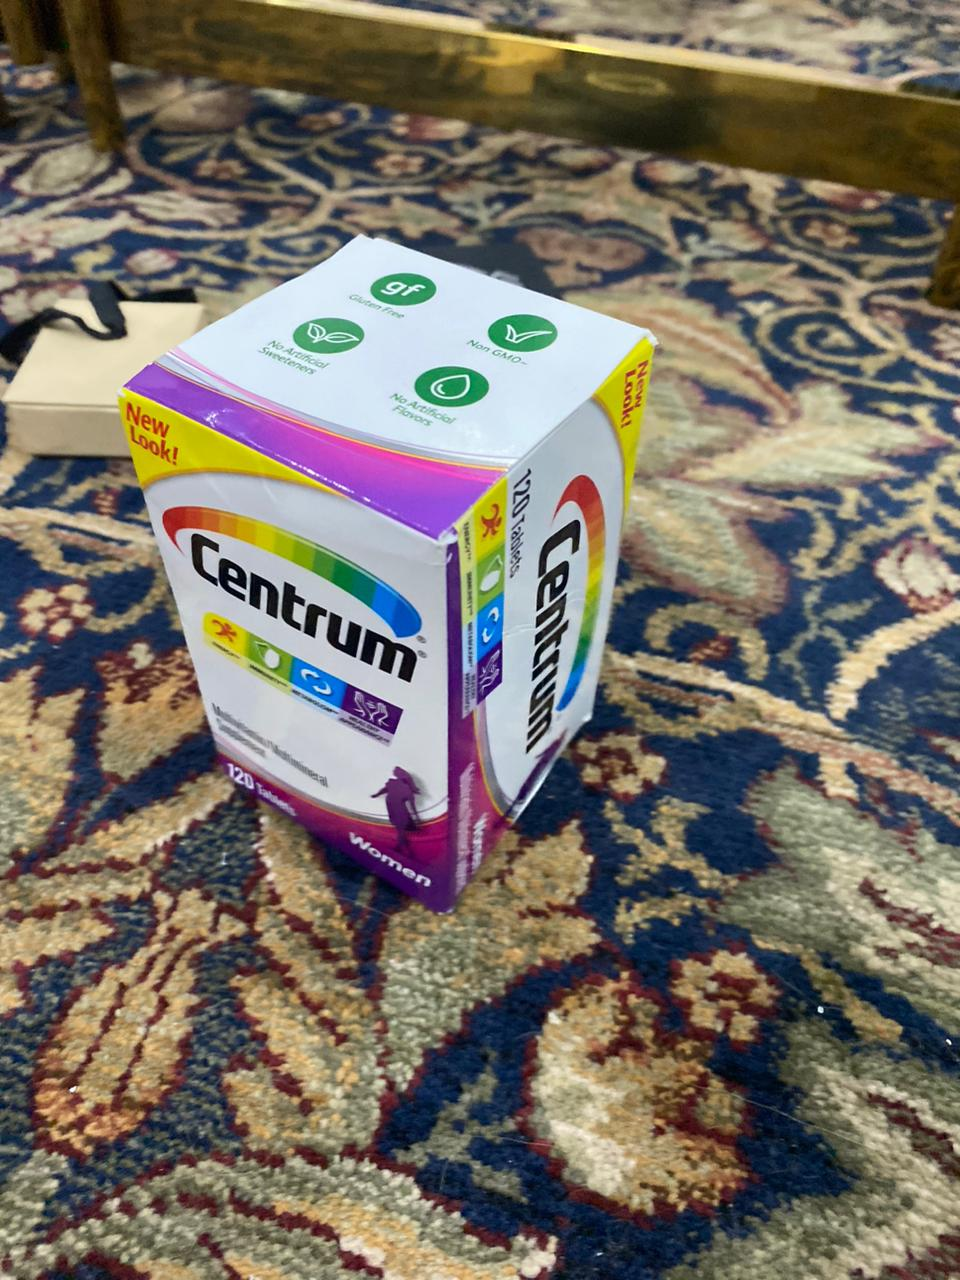Centrum: (121, 227, 664, 918)
Yellow Box: (6, 289, 202, 457)
